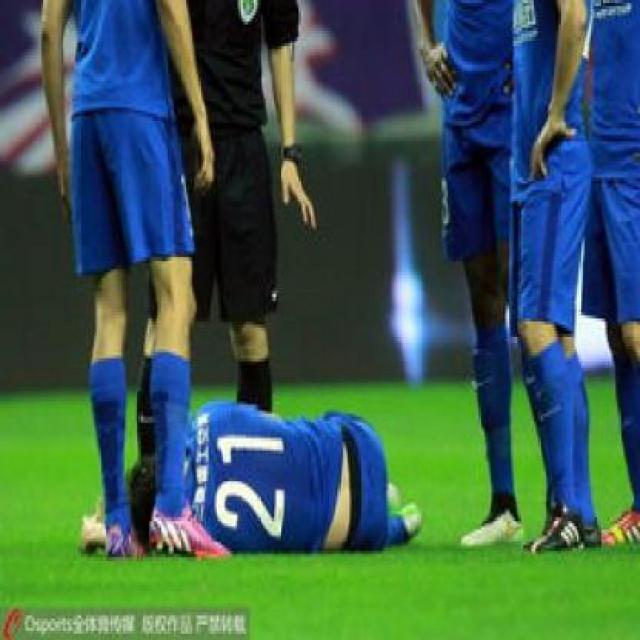fall: (96, 373, 419, 549)
